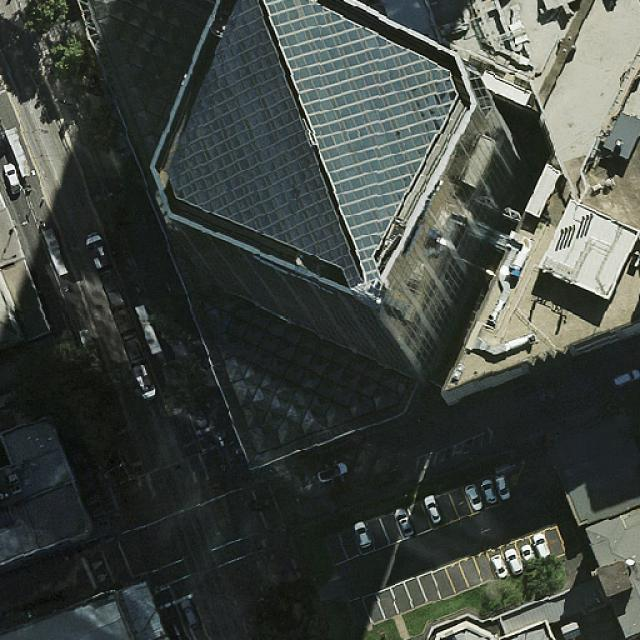Bike-Symbols: (88, 556, 105, 571), (96, 572, 110, 585)
